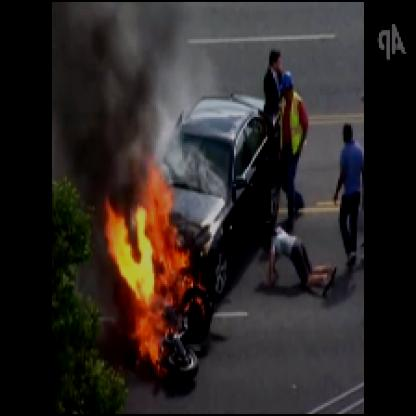Fire: (106, 154, 217, 375)
Smoke: (54, 2, 167, 173)
